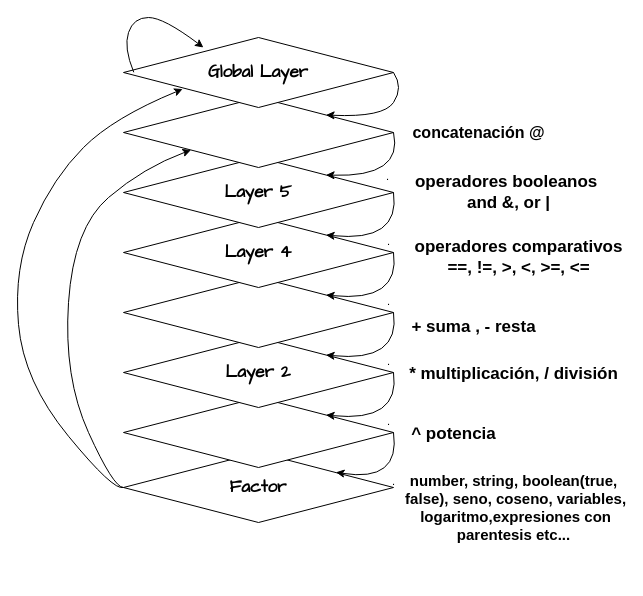
This 643x596 diagram has some shape labels left out. The centre of each missing label's shape, as x and y in pixels:
"Layer 1" goes at point 258,432.
"Layer 3" goes at point 258,312.
"Layer 6" goes at point 258,132.
